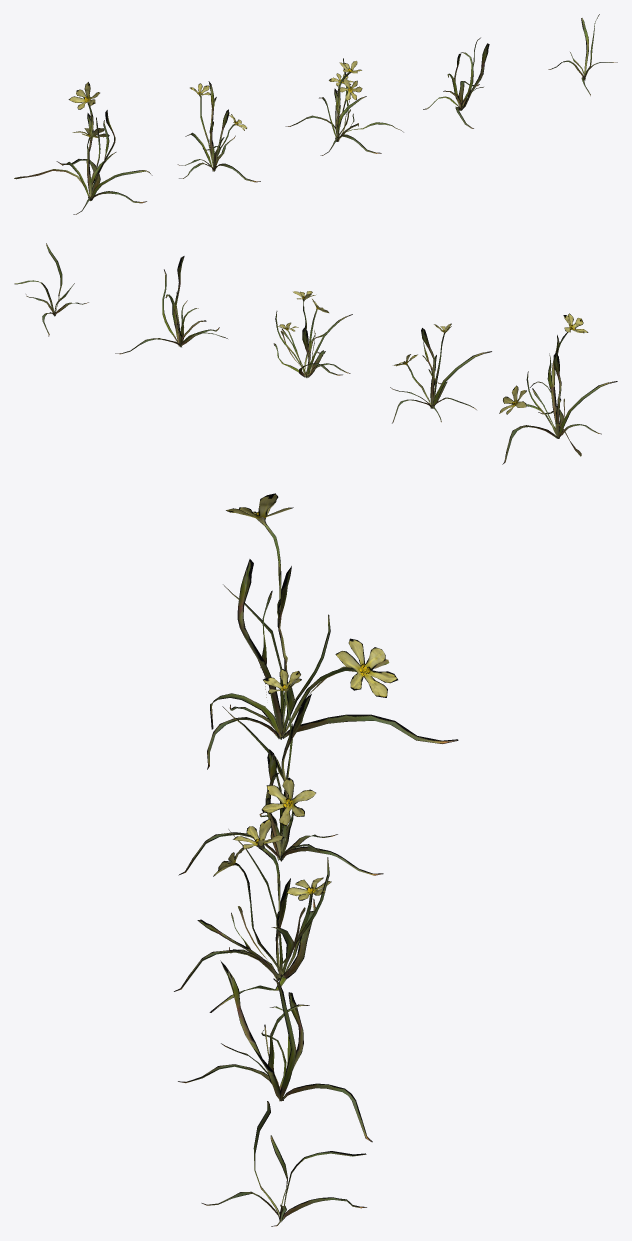
The model's file is flower_empodium_4k.glb.
3 views of the same model, one above another, from view 1: azimuth 30°, elevation 25°; view 2: azimuth 150°, elevation 25°; view 3: azimuth 270°, elevation 25° (orthographic). The views are drawn at different scales.
Parts seen in each view (by area): view 1: flower_empodium_a_LOD0, flower_empodium_c_LOD0, flower_empodium_b_LOD0, flower_empodium_d_LOD0, flower_empodium_e_LOD0; view 2: flower_empodium_a_LOD0, flower_empodium_c_LOD0, flower_empodium_b_LOD0, flower_empodium_d_LOD0, flower_empodium_e_LOD0; view 3: flower_empodium_a_LOD0, flower_empodium_c_LOD0, flower_empodium_b_LOD0, flower_empodium_d_LOD0, flower_empodium_e_LOD0.
Part boxes in pixels (x1,y1,x2,y2): flower_empodium_a_LOD0: (14, 82, 152, 214); flower_empodium_c_LOD0: (285, 58, 403, 155); flower_empodium_b_LOD0: (177, 81, 260, 182); flower_empodium_d_LOD0: (423, 37, 489, 128); flower_empodium_e_LOD0: (548, 14, 617, 95); flower_empodium_a_LOD0: (499, 313, 617, 464); flower_empodium_c_LOD0: (273, 291, 352, 377); flower_empodium_b_LOD0: (390, 323, 491, 423); flower_empodium_d_LOD0: (115, 256, 227, 354); flower_empodium_e_LOD0: (14, 243, 88, 336); flower_empodium_a_LOD0: (207, 493, 458, 769); flower_empodium_c_LOD0: (174, 818, 331, 1012); flower_empodium_b_LOD0: (178, 668, 383, 875); flower_empodium_d_LOD0: (178, 960, 372, 1142); flower_empodium_e_LOD0: (201, 1101, 366, 1226).
Bounding box in the file's own units: 1.32 × 0.2684 × 0.2841.
Materials: 1 (1 with a texture image).
